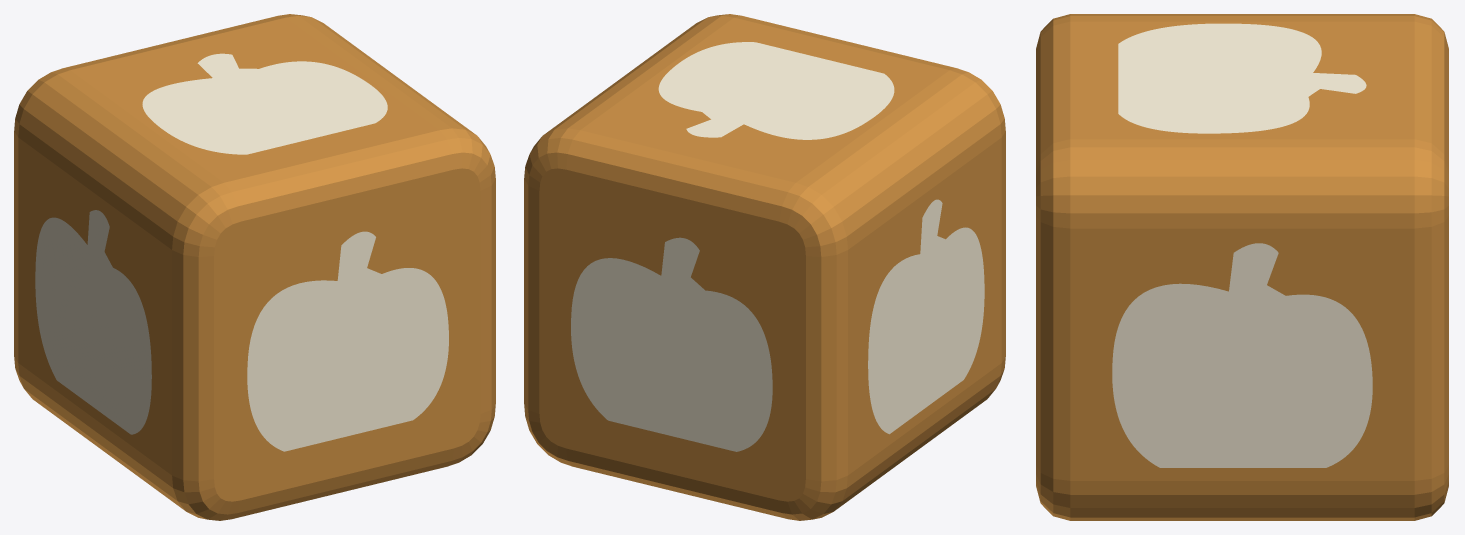
The model's file is budget-marker-1.glb.
The picture shows the model from 3 angles, left to right: view 1: azimuth 30°, elevation 25°; view 2: azimuth 150°, elevation 25°; view 3: azimuth 270°, elevation 25°; orthographic projection. The views are drawn at different scales.
Visible parts, largest first — view 1: budget-marker-1; view 2: budget-marker-1; view 3: budget-marker-1.
Part boxes in pixels (left/top/right/bottom): budget-marker-1: left=14, top=14, right=495, bottom=520; budget-marker-1: left=524, top=14, right=1005, bottom=520; budget-marker-1: left=1036, top=14, right=1448, bottom=520.
Bounding box in the file's own units: 0.008 × 0.008 × 0.008.
